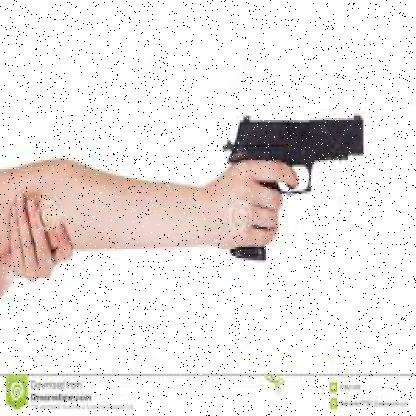pistol: (224, 111, 366, 267)
